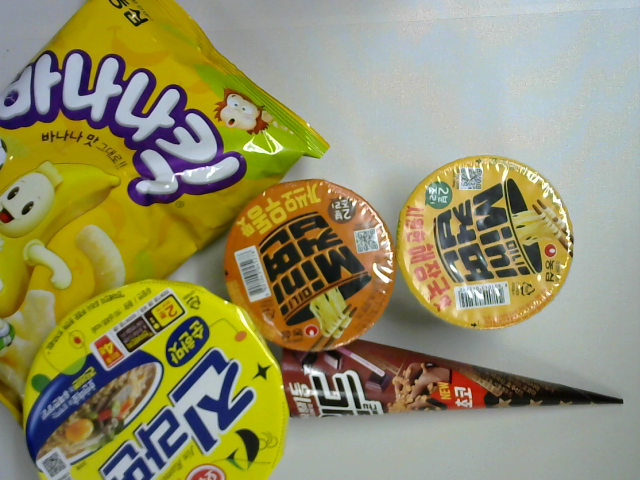Banana_Kick: (1, 1, 332, 458)
Hejangmini: (391, 150, 575, 339)
Jinlamyeon_Mild_Taste_Large_Cup: (17, 275, 288, 480)
Udongmini: (219, 176, 395, 355)
World_Cone_Choco: (278, 323, 636, 426)
